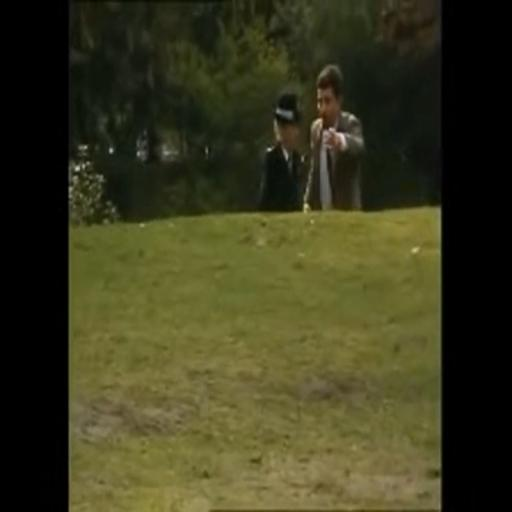nao-violencia: (252, 53, 371, 212)
